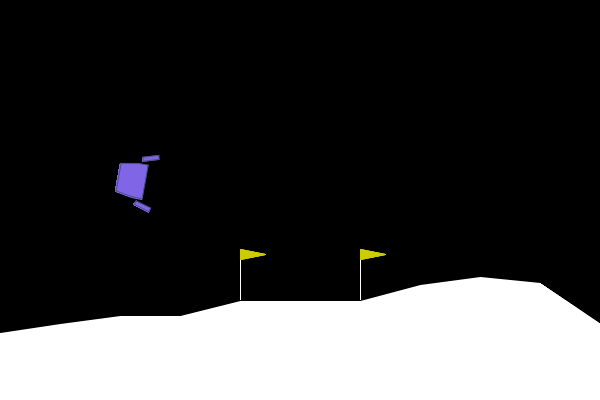lander: (111, 148, 161, 214)
